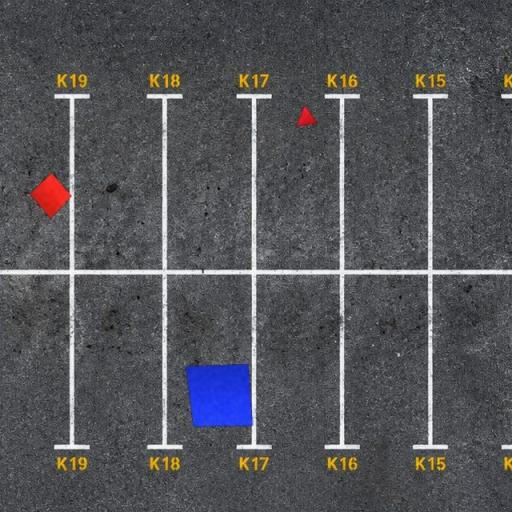BLUE_SQUARE: (186, 363, 254, 428)
RED_SQUARE: (29, 172, 72, 219)
